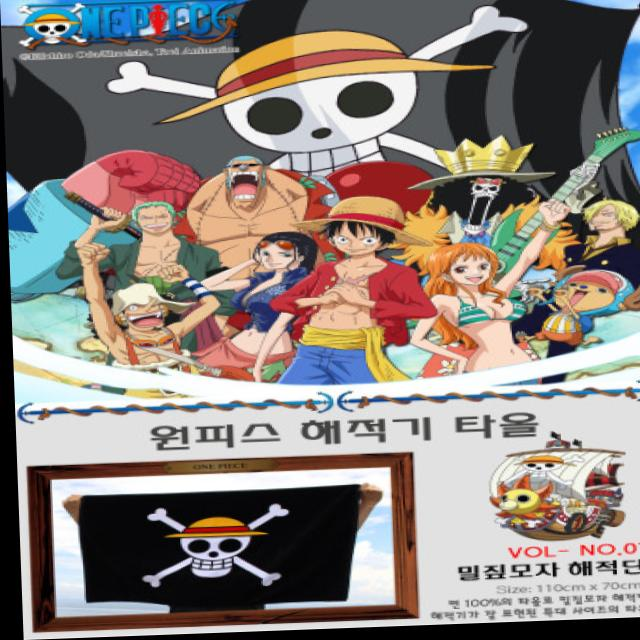Blook: (450, 171, 525, 243)
Chyopa: (512, 268, 640, 360)
Franky: (218, 153, 268, 215)
Luffy: (315, 195, 418, 262)
Nami: (414, 242, 497, 305)
NicoRobin: (248, 229, 318, 278)
Sangdi: (573, 199, 637, 247)
Usopp: (99, 279, 177, 340)
Zoro: (123, 202, 184, 238)
